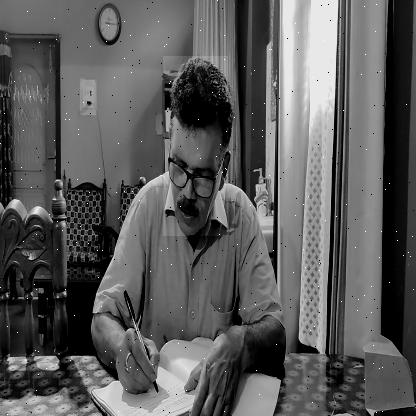Normal: (163, 56, 228, 236)
